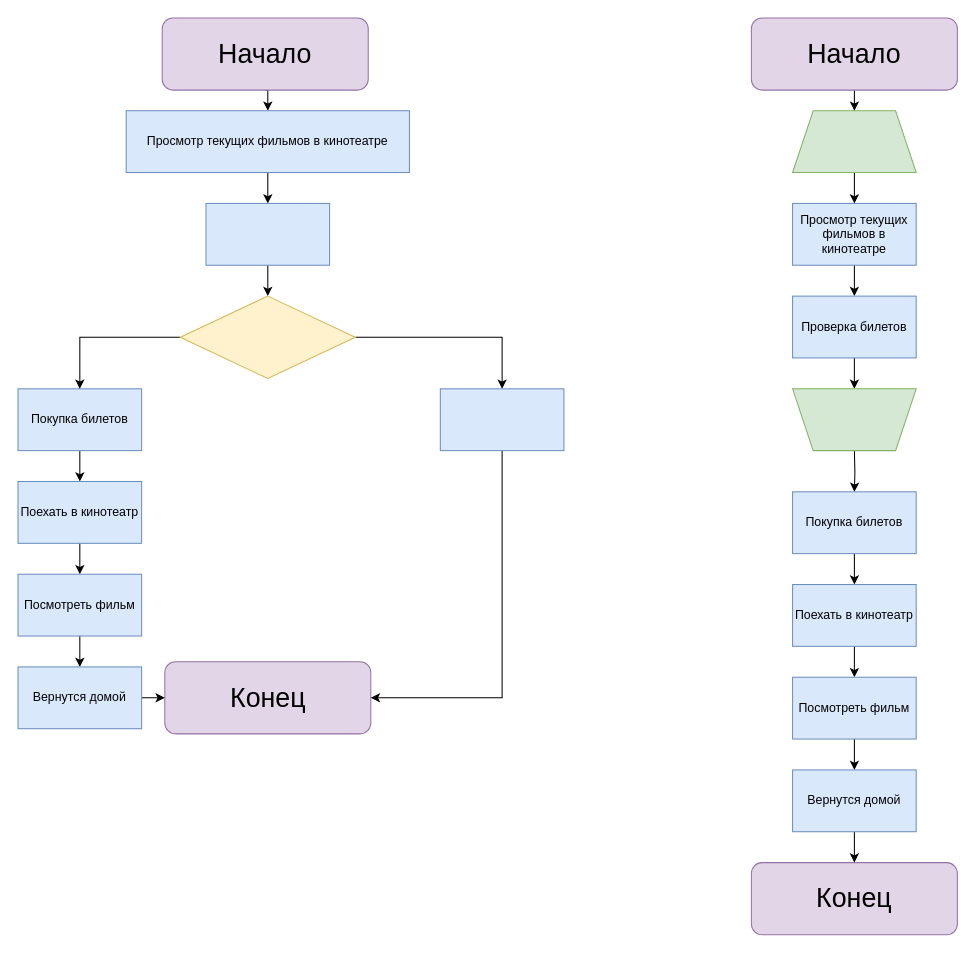
The diagram is 975 pixels wide and 953 high, and some of its shapes have lost their labels. The shapes that lost their labels are listed below. From the top down, each one's centre as x and y in pixels, then its label:
At (x=854, y=141): "Пока не выбран фильм".
At (x=267, y=233): "Выбор фильма".
At (x=267, y=337): "Если есть билет".
At (x=501, y=419): "Выбор альтернативы".
At (x=854, y=419): "Конец цикла".
